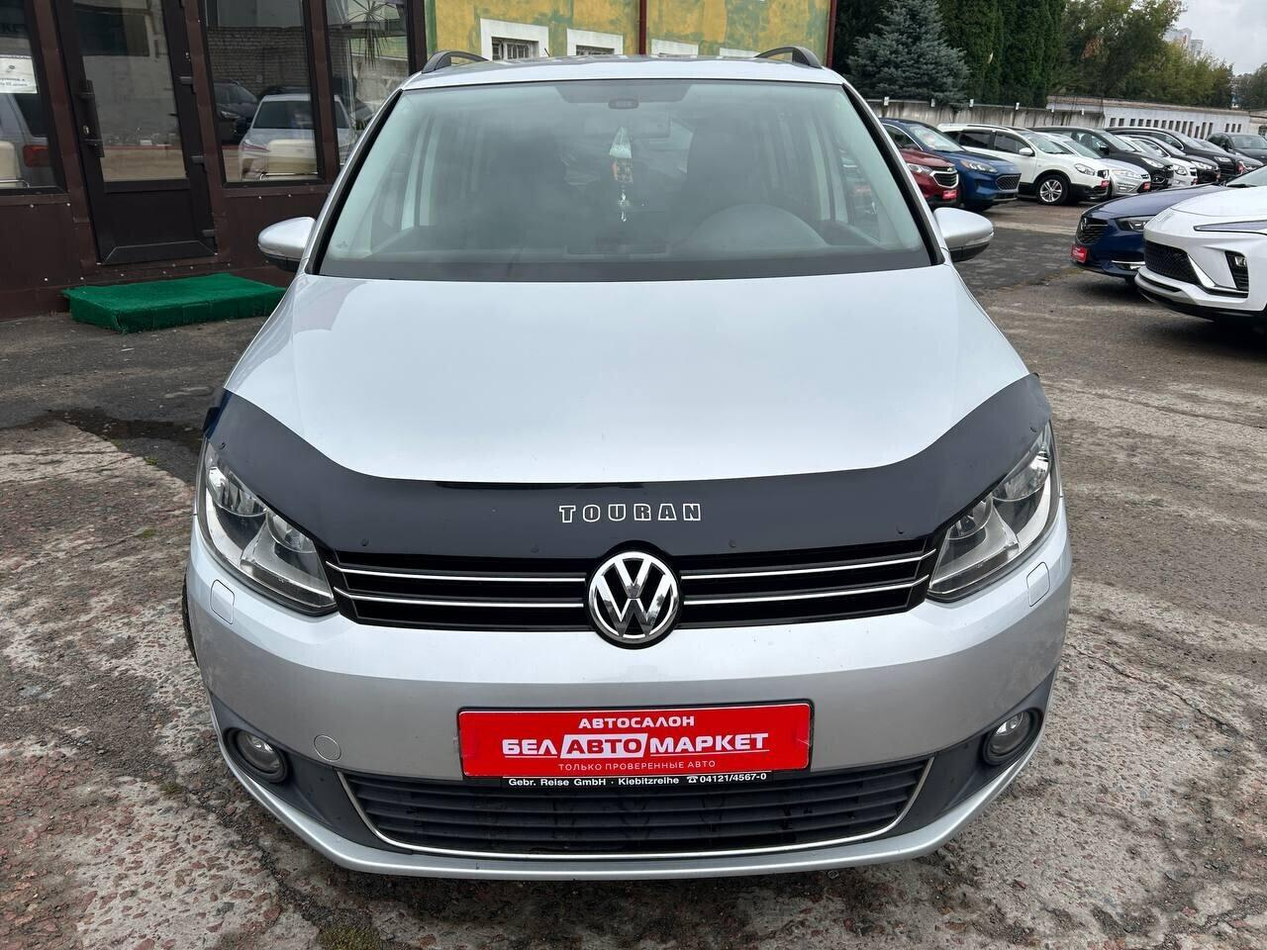Touran_2010-2015: (177, 40, 1076, 893)
